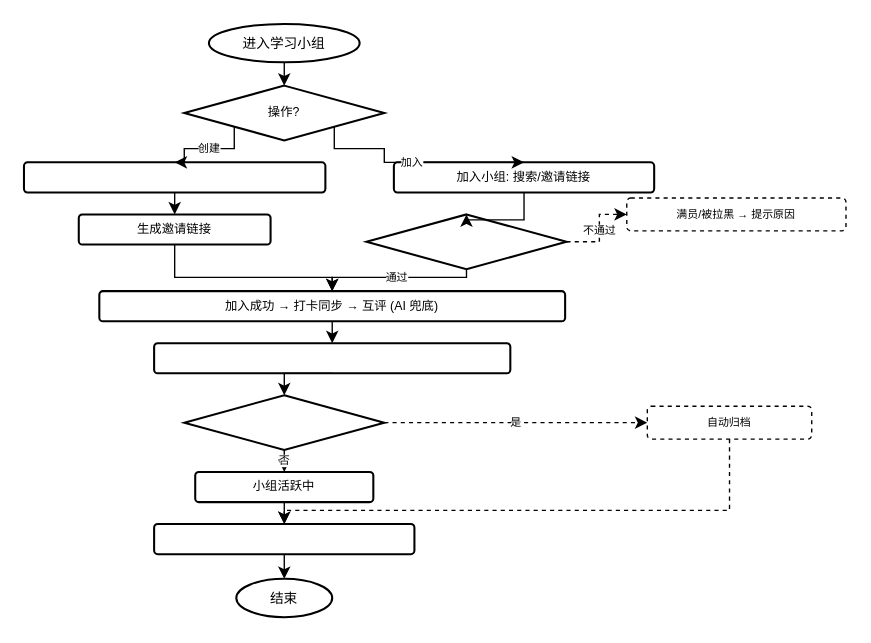
Some shapes in this 871 by 643 pixel diagram are drawn without their labels. The shapes that lost their labels are listed below. From the top down, each one's centre as x and y in pixels, then its label:
At (174,177): "创建小组: 填名称/描述/等级范围".
At (466,241): "验证?".
At (331,358): "周排名 (组员平均发音分降序)".
At (284,422): "30 天无活动?".
At (283,538): "存入 groups + group_members".
